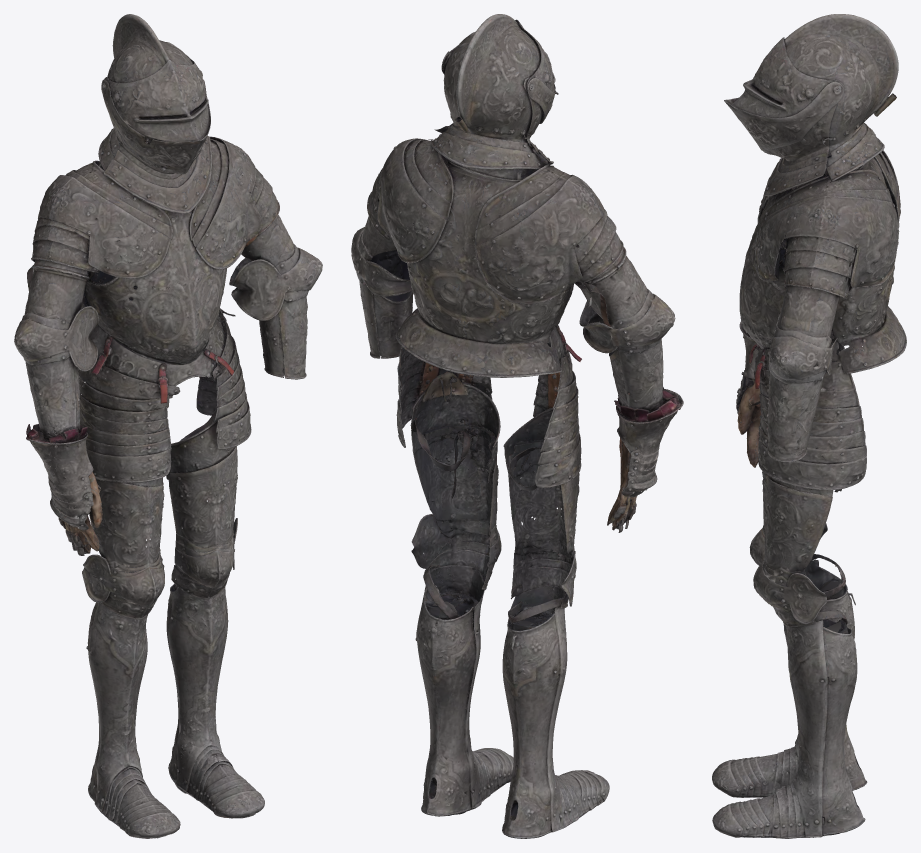
File: parade-armour.glb
3 views of the same model, side by side, from view 1: azimuth 30°, elevation 25°; view 2: azimuth 150°, elevation 25°; view 3: azimuth 270°, elevation 25° (orthographic). The views are drawn at different scales.
Visible parts, largest first — view 1: Object_2; view 2: Object_2; view 3: Object_2.
Boxes of the visible parts, x1,y1,x2,y2 form: Object_2: (14, 14, 322, 838); Object_2: (351, 14, 683, 838); Object_2: (712, 14, 906, 838).
Bounding box in the file's own units: 0.6929 × 1.67 × 0.3732.
1 material, 1 textured.
